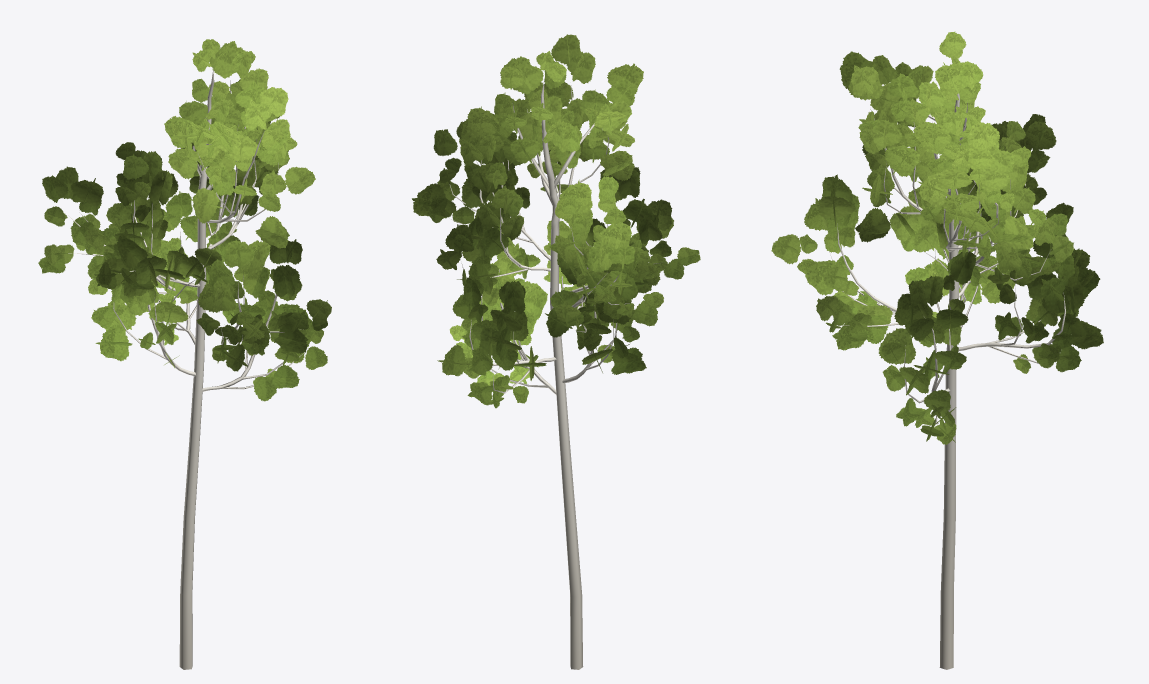
File: abedul.glb
3 renders of one model, left to right at view 1: azimuth 30°, elevation 25°; view 2: azimuth 150°, elevation 25°; view 3: azimuth 270°, elevation 25°, orthographic. The views are drawn at different scales.
Parts seen in each view (by area): view 1: abedul; view 2: abedul; view 3: abedul.
Part boxes in pixels (x1,y1,x2,y2): abedul: [38, 39, 331, 669]; abedul: [412, 34, 700, 669]; abedul: [771, 31, 1103, 669].
Size of the model in its own units: 6.77 by 14 by 7.44.
2 materials, 1 textured.
